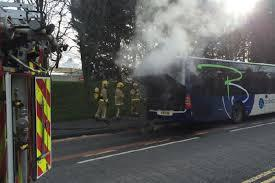smoke: (116, 1, 265, 81)
